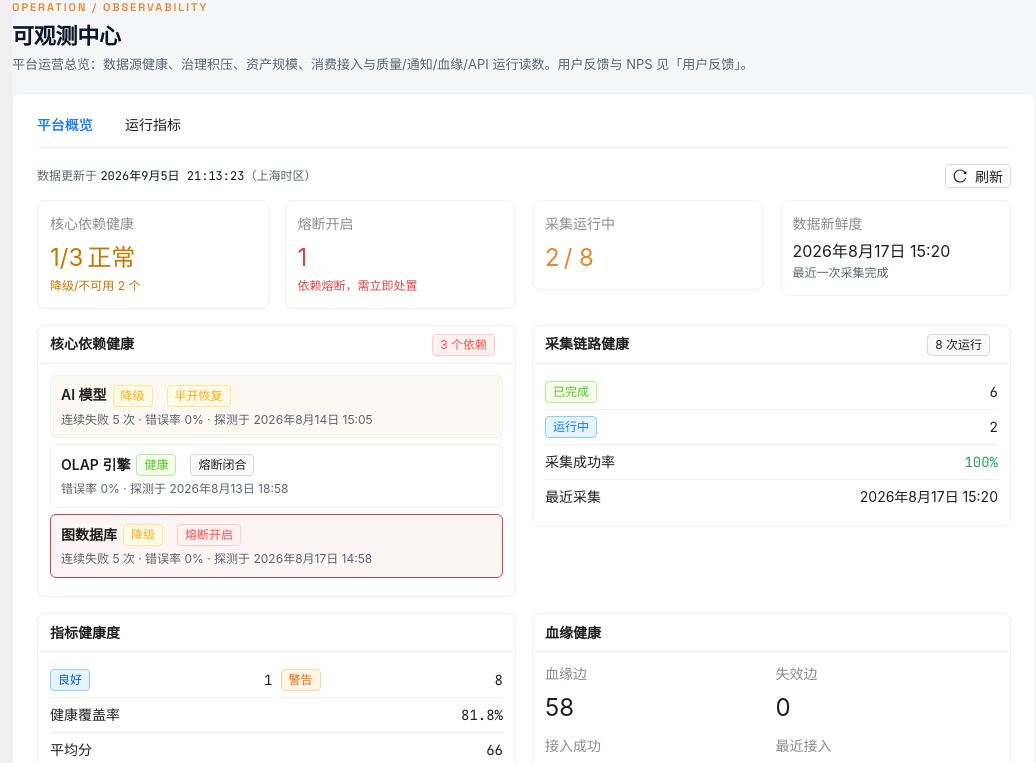
Test: Observability 可观测中心 › 质量事件含修复建议时展示解决建议（责任方/处置动作/诊断 SQL）
Check: the tab "平台概览" is shown, box [37,114,93,136]
Click the tab "运行指标" at point(153, 125), box [125,114,181,136]
(page scrolled)
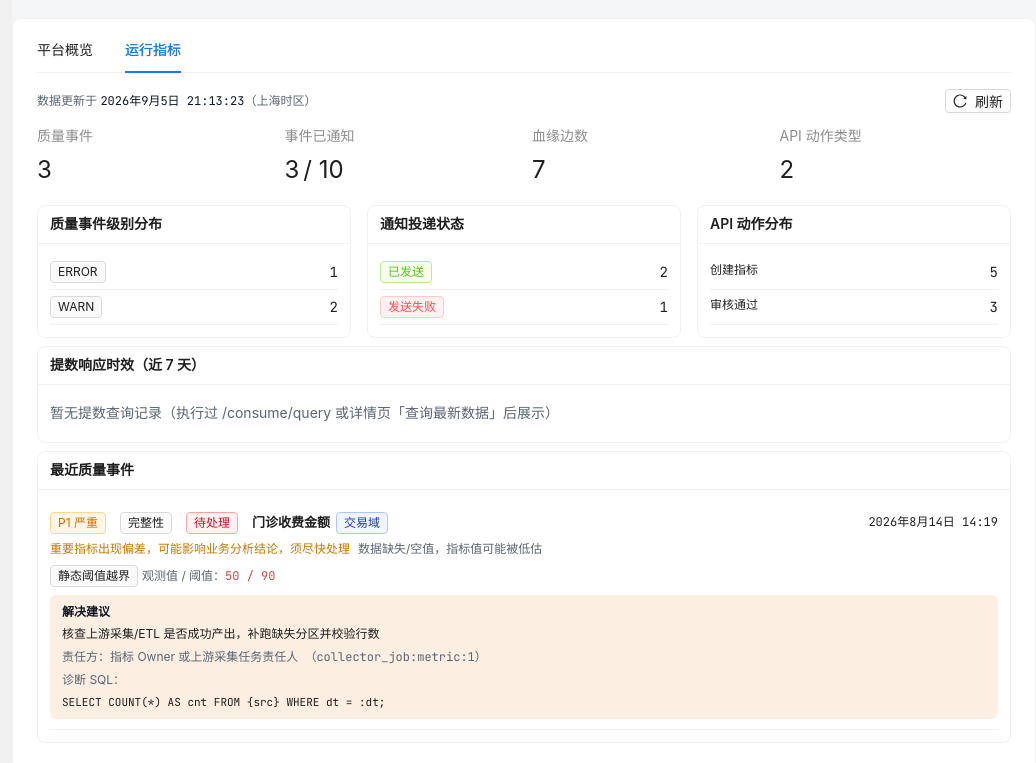
Check: the text "最近质量事件" is shown, box [50,461,134,478]
Check: the text "静态阈值越界" is shown, box [50,564,138,586]
Check: the text "解决建议" is shown, box [62,604,110,618]
